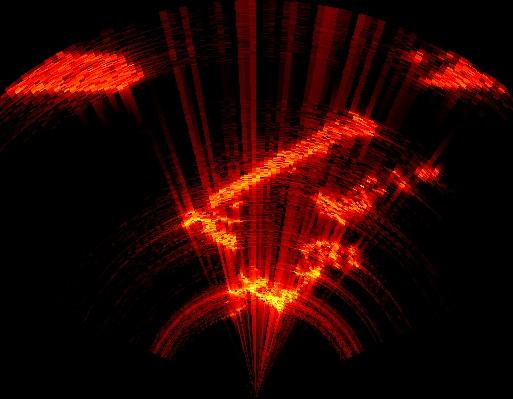shipwreck: (182, 112, 377, 249), (228, 238, 360, 311), (9, 46, 151, 95), (314, 176, 386, 231), (422, 60, 505, 92), (412, 156, 440, 182), (387, 169, 412, 190)
